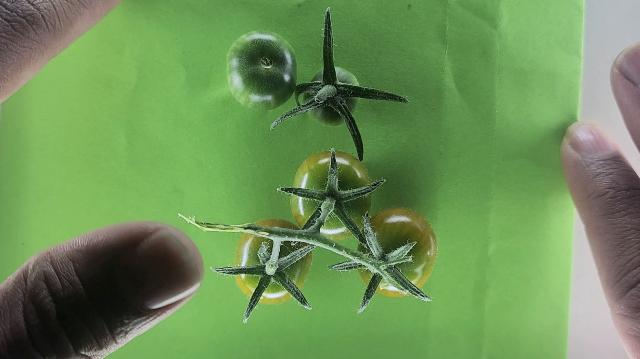Fruit Maturation: (224, 29, 298, 111), (302, 64, 360, 127)
Fully Grown: (291, 148, 374, 240), (355, 206, 437, 297), (234, 218, 314, 305)
